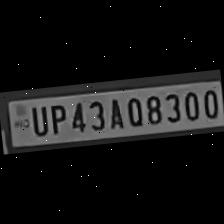0: (178, 88, 201, 122), (199, 86, 220, 119)
3: (85, 97, 107, 132), (160, 90, 182, 124)
4: (64, 98, 88, 134)
8: (142, 92, 164, 125)
A: (104, 96, 124, 130)
P: (45, 101, 68, 135)
Q: (122, 94, 144, 128)
U: (26, 103, 48, 137)
